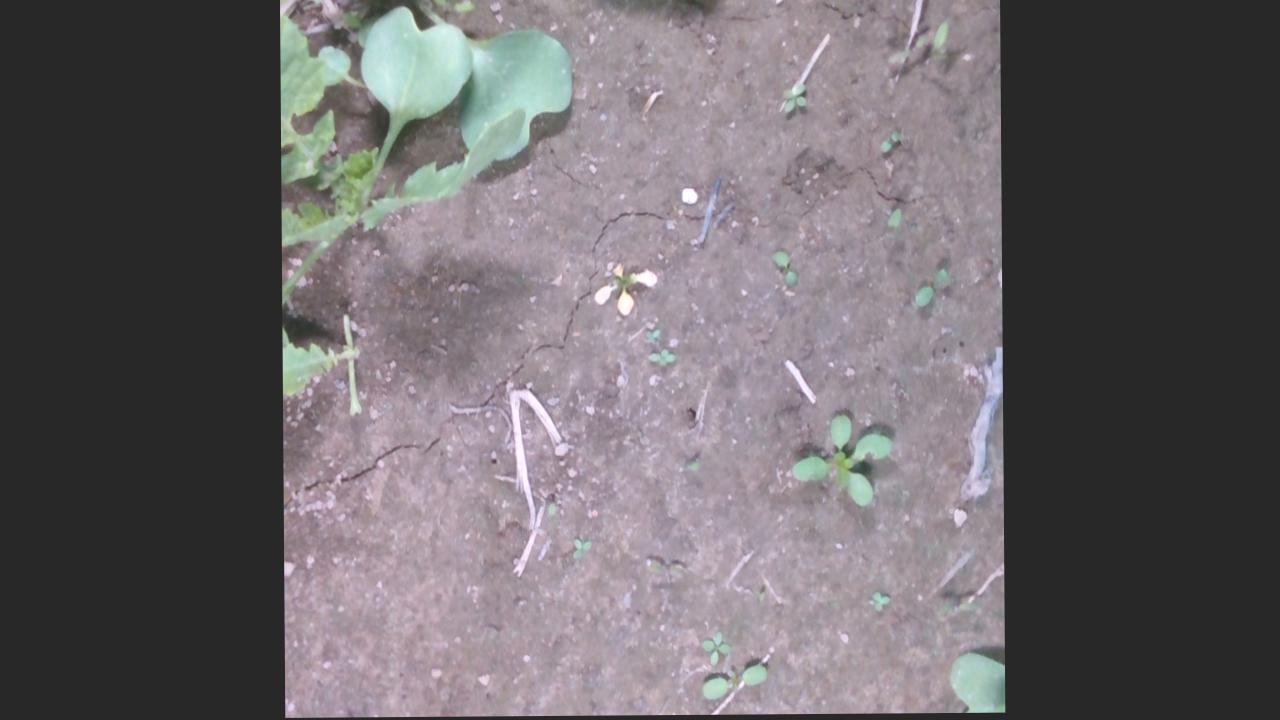weed: (913, 268, 951, 311), (769, 251, 801, 290), (699, 632, 729, 669), (778, 83, 807, 116), (643, 349, 677, 371), (865, 592, 889, 616), (569, 538, 593, 562), (878, 133, 900, 155), (641, 330, 662, 346)
